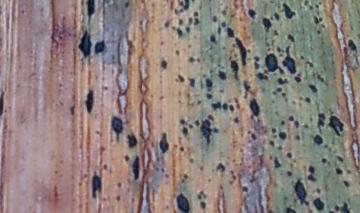tarspot: (282, 46, 297, 76), (294, 178, 308, 206), (78, 30, 92, 57), (235, 37, 247, 66), (328, 114, 345, 134), (200, 118, 211, 145), (176, 192, 190, 213), (159, 131, 170, 154), (84, 89, 94, 113), (111, 116, 124, 134), (265, 53, 277, 72), (132, 153, 140, 181), (282, 3, 296, 19), (249, 97, 260, 116), (230, 58, 239, 79), (87, 1, 95, 24), (93, 174, 101, 197), (242, 78, 250, 99), (346, 38, 358, 52), (312, 197, 324, 211), (1, 91, 7, 117), (127, 133, 137, 148), (262, 17, 272, 32), (246, 8, 257, 19), (340, 202, 351, 213), (217, 69, 227, 81), (95, 41, 104, 54), (255, 73, 269, 81), (317, 112, 324, 128), (273, 154, 281, 168), (233, 96, 241, 110), (312, 134, 322, 145), (285, 204, 297, 213), (308, 83, 317, 94), (241, 183, 250, 194), (307, 163, 316, 174), (227, 26, 235, 38), (307, 173, 316, 183), (211, 102, 222, 110), (277, 77, 288, 85), (188, 76, 195, 88), (177, 74, 186, 83), (317, 74, 326, 83), (205, 78, 213, 88), (176, 28, 184, 38), (160, 59, 167, 70), (287, 34, 295, 43), (162, 19, 171, 27), (285, 150, 293, 159), (273, 12, 280, 22), (313, 15, 319, 26), (216, 163, 224, 171), (294, 75, 302, 83), (336, 154, 344, 162), (306, 61, 314, 69), (205, 92, 212, 101), (279, 131, 286, 140), (315, 186, 322, 195), (184, 1, 190, 11), (182, 126, 188, 136), (343, 178, 349, 188), (123, 155, 131, 162), (277, 66, 284, 74), (210, 35, 217, 43), (192, 17, 199, 25), (254, 62, 261, 70), (253, 56, 261, 63), (335, 168, 342, 176), (315, 28, 322, 36), (345, 167, 352, 175), (217, 25, 222, 36), (200, 202, 206, 211), (185, 24, 191, 33), (305, 95, 311, 104), (268, 138, 274, 147), (173, 8, 180, 15), (212, 126, 219, 133), (207, 113, 214, 120), (287, 115, 294, 122), (286, 170, 293, 177), (188, 55, 194, 63), (212, 15, 218, 23), (187, 17, 193, 25), (195, 119, 201, 127), (222, 102, 228, 110), (294, 120, 300, 128), (250, 132, 256, 140), (301, 123, 309, 129), (273, 28, 279, 36), (92, 129, 100, 135), (116, 182, 122, 189), (124, 1, 130, 8), (174, 50, 181, 56), (192, 11, 199, 17), (229, 104, 235, 111), (320, 157, 327, 163), (294, 135, 301, 141), (182, 172, 188, 179), (188, 158, 195, 164), (277, 144, 283, 151), (103, 163, 108, 171), (116, 194, 121, 202), (276, 45, 281, 53), (335, 204, 340, 212), (329, 208, 337, 213), (300, 54, 305, 62), (169, 1, 174, 9), (221, 22, 227, 28), (178, 1, 184, 7), (188, 123, 194, 129), (233, 117, 239, 123), (179, 147, 185, 153), (308, 4, 314, 10), (298, 95, 304, 101), (196, 56, 201, 63), (266, 42, 271, 49), (277, 87, 282, 93), (280, 119, 285, 125), (272, 127, 277, 133), (319, 15, 324, 21), (221, 10, 227, 15), (197, 99, 202, 105), (158, 95, 164, 100), (246, 48, 252, 53), (269, 154, 274, 160), (230, 42, 236, 47), (181, 118, 185, 125), (281, 93, 288, 97), (272, 90, 277, 95), (304, 1, 309, 6), (315, 3, 320, 8), (160, 167, 165, 172), (104, 85, 109, 90), (197, 195, 202, 200), (229, 169, 234, 174), (178, 18, 182, 24), (21, 9, 25, 15), (199, 165, 203, 171), (160, 41, 165, 45), (232, 175, 236, 180), (199, 191, 204, 194), (292, 100, 295, 105)
